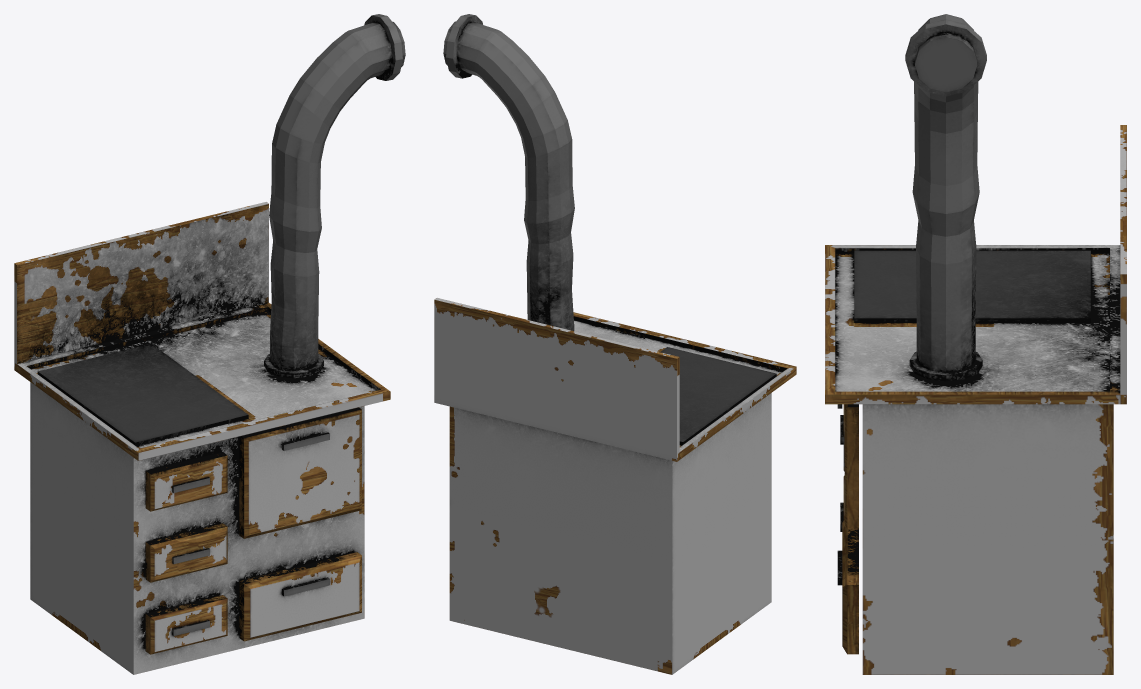
File: cupboard.fbx
3 views of the same model, side by side, from view 1: azimuth 30°, elevation 25°; view 2: azimuth 150°, elevation 25°; view 3: azimuth 270°, elevation 25° (orthographic). The views are drawn at different scales.
Parts seen in each view (by area): view 1: Cube.003; view 2: Cube.003; view 3: Cube.003.
Part boxes in pixels (x1,y1,x2,y2): Cube.003: (14, 14, 405, 674); Cube.003: (434, 14, 796, 674); Cube.003: (825, 14, 1126, 674).
Bounding box in the file's own units: 506 × 893 × 357.
1 material, 1 textured.
